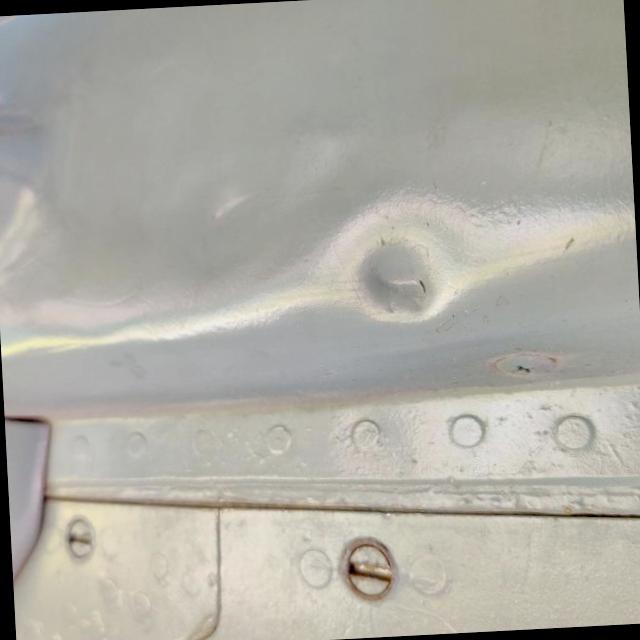dent: (312, 192, 494, 354), (184, 164, 284, 246)
